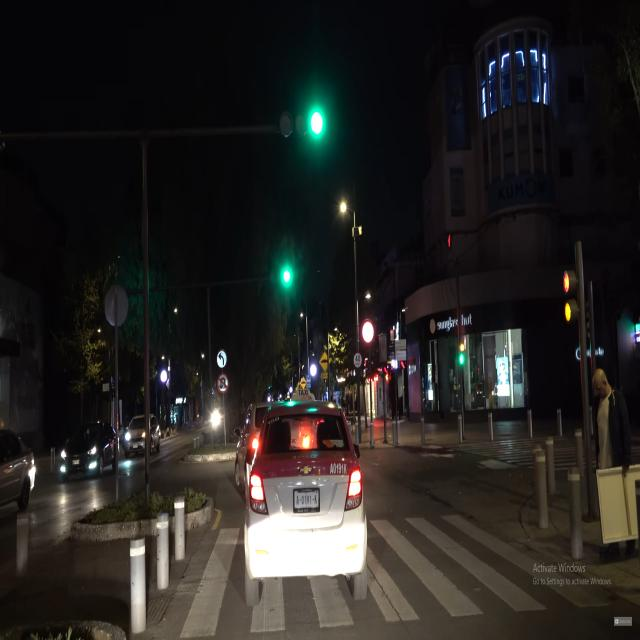headlights: (55, 445, 106, 476), (121, 423, 153, 448)
